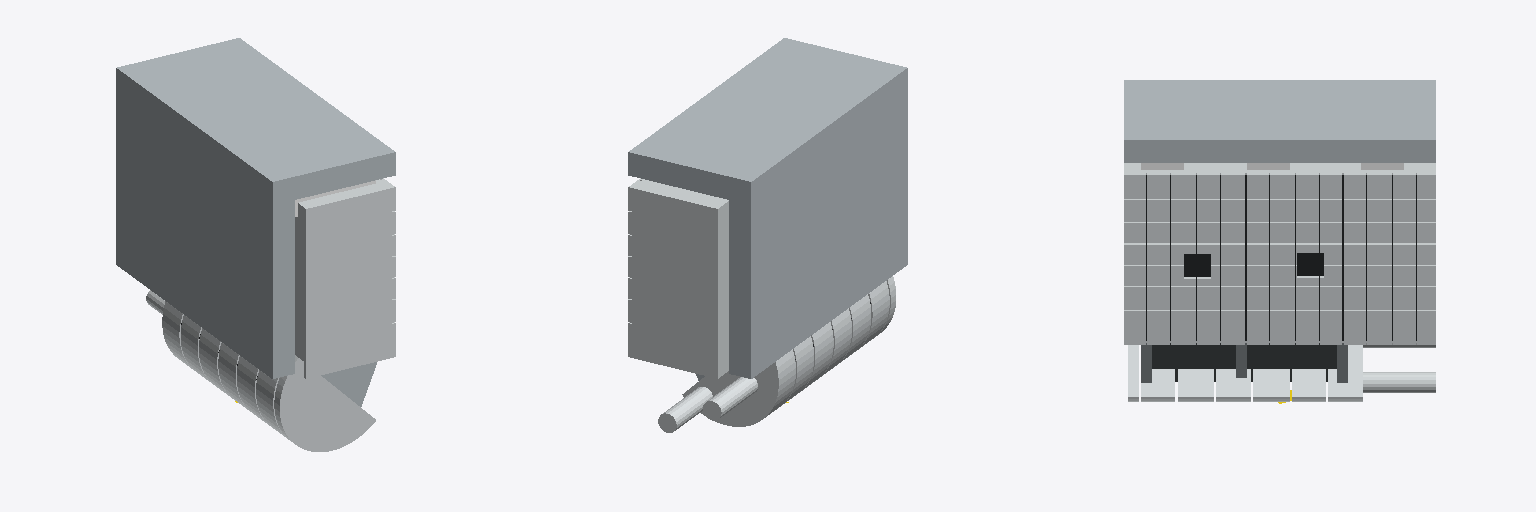
The model's file is tinker.obj.
The picture shows the model from 3 angles: view 1: azimuth 30°, elevation 25°; view 2: azimuth 150°, elevation 25°; view 3: azimuth 270°, elevation 25°; orthographic projection.
Parts seen in each view (by area): view 1: obj_0; view 2: obj_0; view 3: obj_0.
Boxes of the visible parts, x1=… form: obj_0: x1=116, y1=38, x2=395, y2=451; obj_0: x1=628, y1=38, x2=907, y2=432; obj_0: x1=1124, y1=80, x2=1435, y2=403.
Bounding box in the file's own units: 66 × 150 × 145.